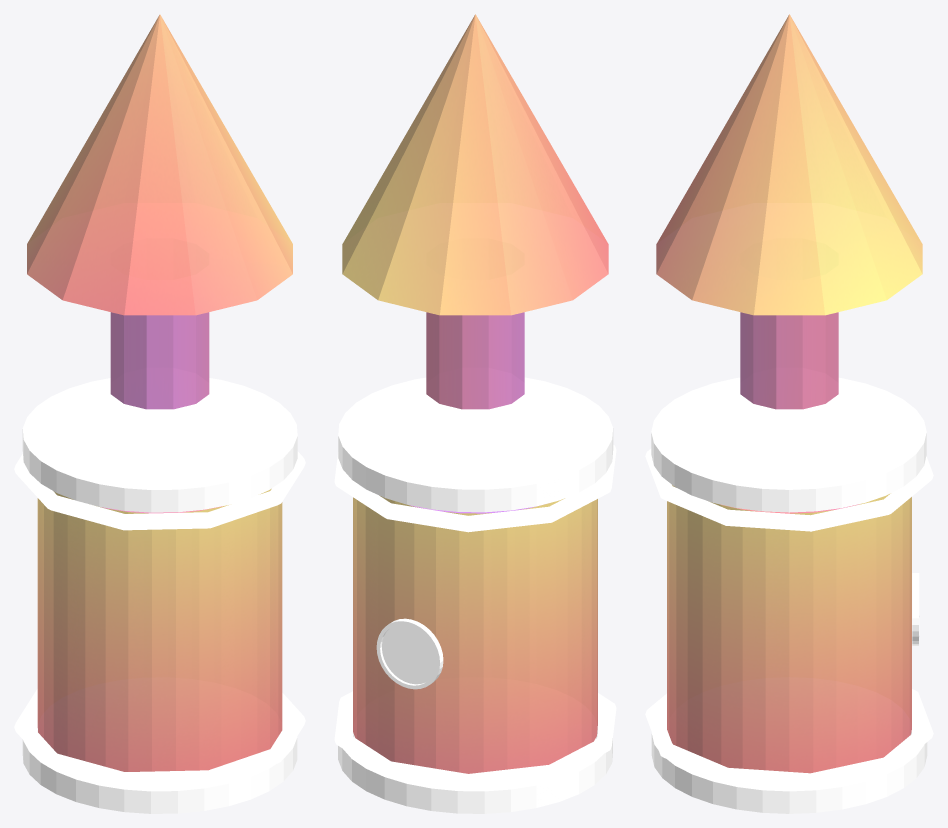
File: teleporter.glb
3 renders of one model, left to right at view 1: azimuth 30°, elevation 25°; view 2: azimuth 150°, elevation 25°; view 3: azimuth 270°, elevation 25°, orthographic.
Visible parts, largest first — view 1: lightMulticolour, arrow, teleporter.001, teleporter, emissive.001, emissive; view 2: lightMulticolour, arrow, teleporter.001, teleporter, emissive.001, emissive, teleporter.002; view 3: lightMulticolour, arrow, teleporter.001, teleporter, emissive.001, emissive, teleporter.002.
Part boxes in pixels (x1,y1,x2,y2): lightMulticolour: (37,488,282,771); arrow: (27,14,292,409); teleporter.001: (22,378,297,512); teleporter: (22,716,297,813); emissive.001: (14,689,305,788); emissive: (14,451,305,530); lightMulticolour: (353,495,597,773); arrow: (342,14,608,409); teleporter.001: (338,377,613,512); teleporter: (338,711,612,813); emissive.001: (334,691,616,790); emissive: (334,445,616,532); teleporter.002: (376,618,443,689); lightMulticolour: (667,485,911,773); arrow: (656,14,922,409); teleporter.001: (651,377,926,512); teleporter: (651,714,927,813); emissive.001: (645,689,933,789); emissive: (645,448,933,531); teleporter.002: (912,573,919,645).
Size of what is drawn, in the model's own units: 3.15 by 8.93 by 3.15.
3 materials, 1 textured.
